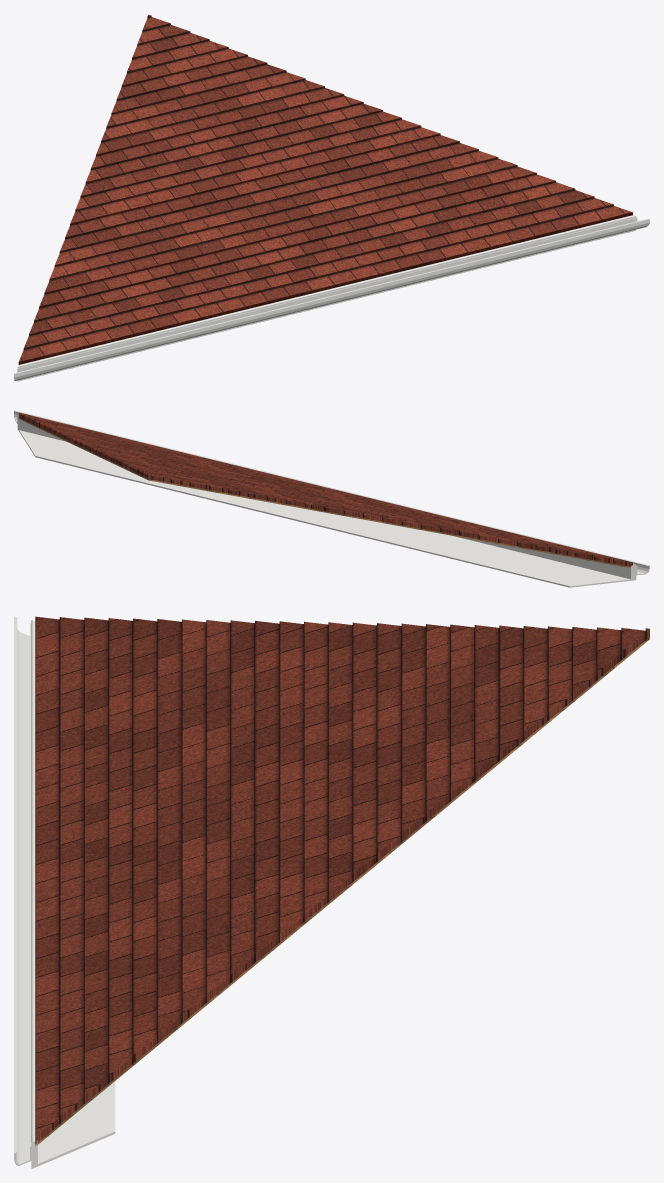
File: roof_end.glb
3 views of the same model, one above another, from view 1: azimuth 30°, elevation 25°; view 2: azimuth 150°, elevation 25°; view 3: azimuth 270°, elevation 25° (orthographic). The views are drawn at different scales.
Visible parts, largest first — view 1: roof_end_shingles, roof_end_gutter, roof_end_trim; view 2: roof_end_shingles, roof_end_trim, roof_end_gutter, roof_end_wood; view 3: roof_end_shingles, roof_end_gutter, roof_end_trim, roof_end_wood.
Part boxes in pixels (x1=…): roof_end_shingles: x1=18, y1=14, x2=632, y2=364; roof_end_gutter: x1=14, y1=217, x2=649, y2=380; roof_end_trim: x1=17, y1=215, x2=636, y2=381; roof_end_shingles: x1=18, y1=412, x2=632, y2=566; roof_end_trim: x1=17, y1=414, x2=636, y2=587; roof_end_gutter: x1=14, y1=410, x2=649, y2=575; roof_end_wood: x1=18, y1=417, x2=630, y2=568; roof_end_shingles: x1=35, y1=616, x2=649, y2=1144; roof_end_gutter: x1=14, y1=616, x2=31, y2=1165; roof_end_trim: x1=31, y1=620, x2=115, y2=1168; roof_end_wood: x1=35, y1=637, x2=649, y2=1146.
Bounding box in the file's own units: 9.52 × 2.31 × 4.76.
5 materials, 2 textured.
